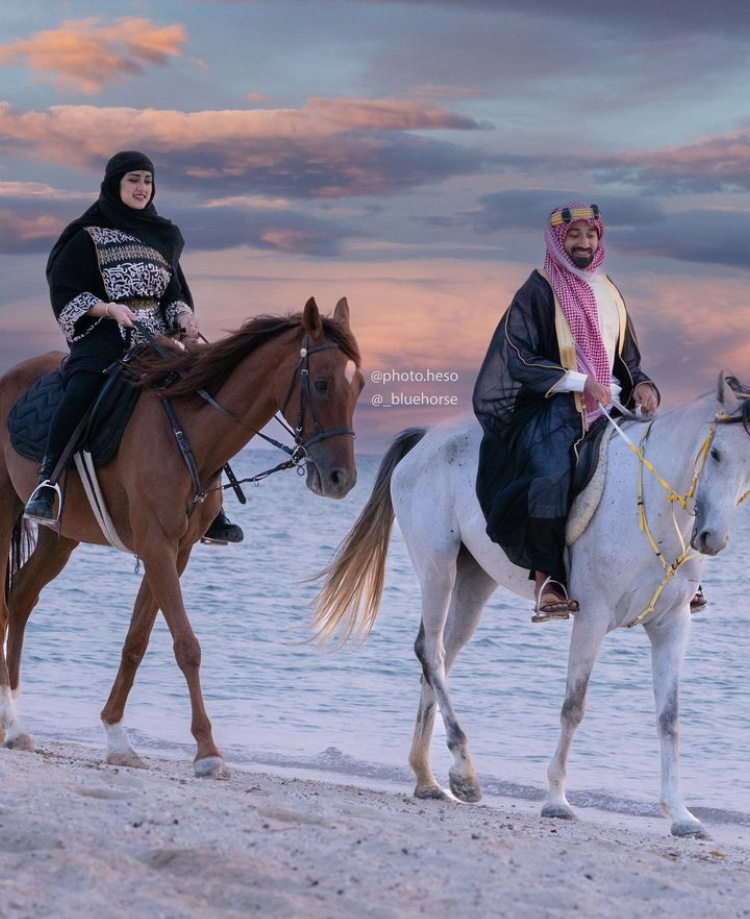Saudi_Founding_Day: (472, 205, 707, 621), (22, 150, 247, 548)
